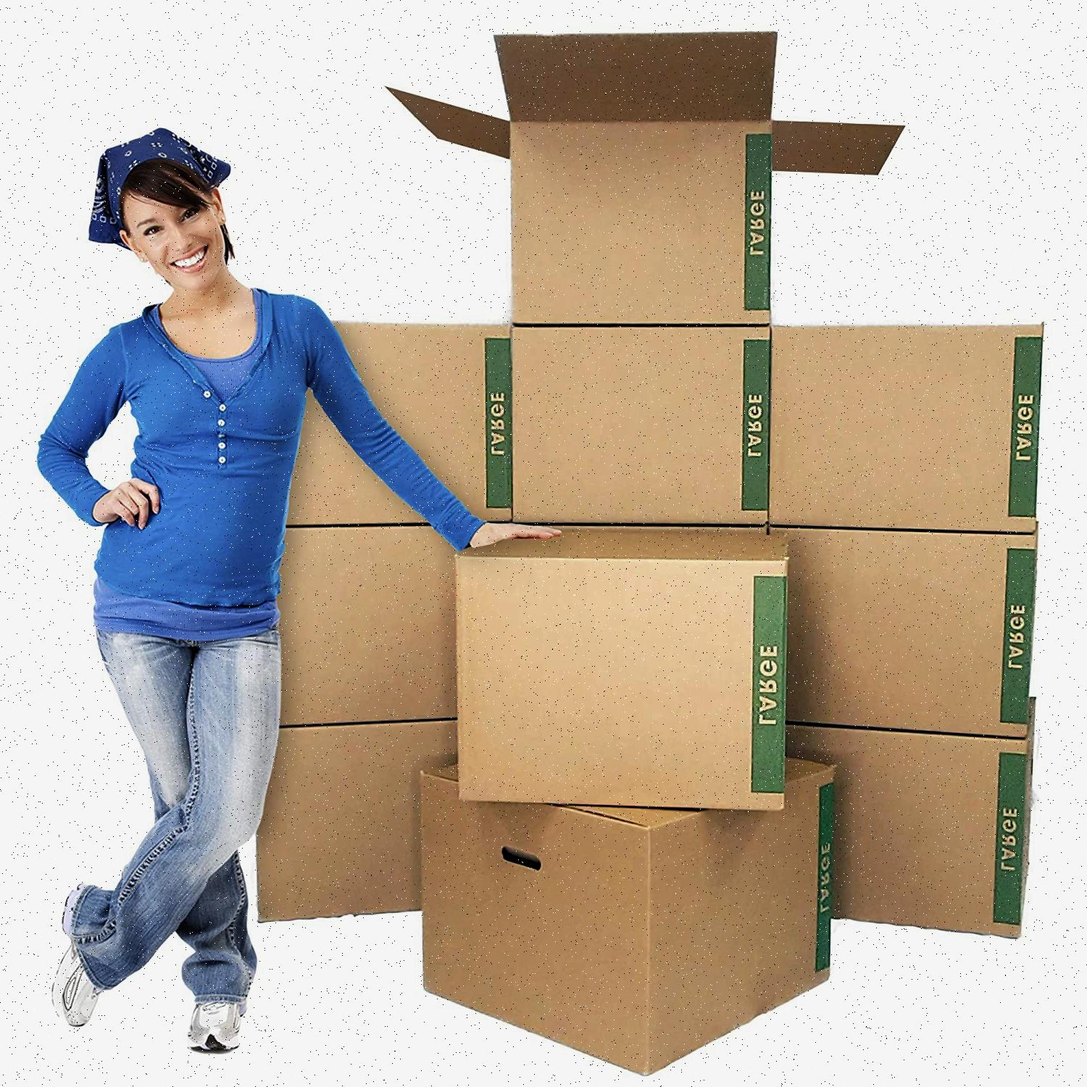Box: (395, 32, 900, 325), (417, 759, 836, 1076), (456, 529, 788, 811), (769, 325, 1042, 533), (773, 529, 1035, 738), (785, 726, 1028, 939), (512, 327, 771, 524), (255, 722, 458, 925), (335, 323, 512, 520), (289, 399, 422, 525)
